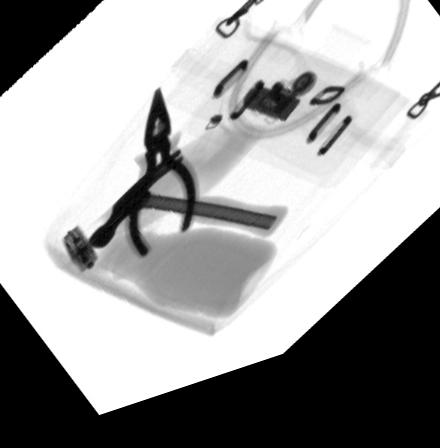Hammer: (87, 162, 288, 257)
Pliers: (122, 96, 199, 268)
